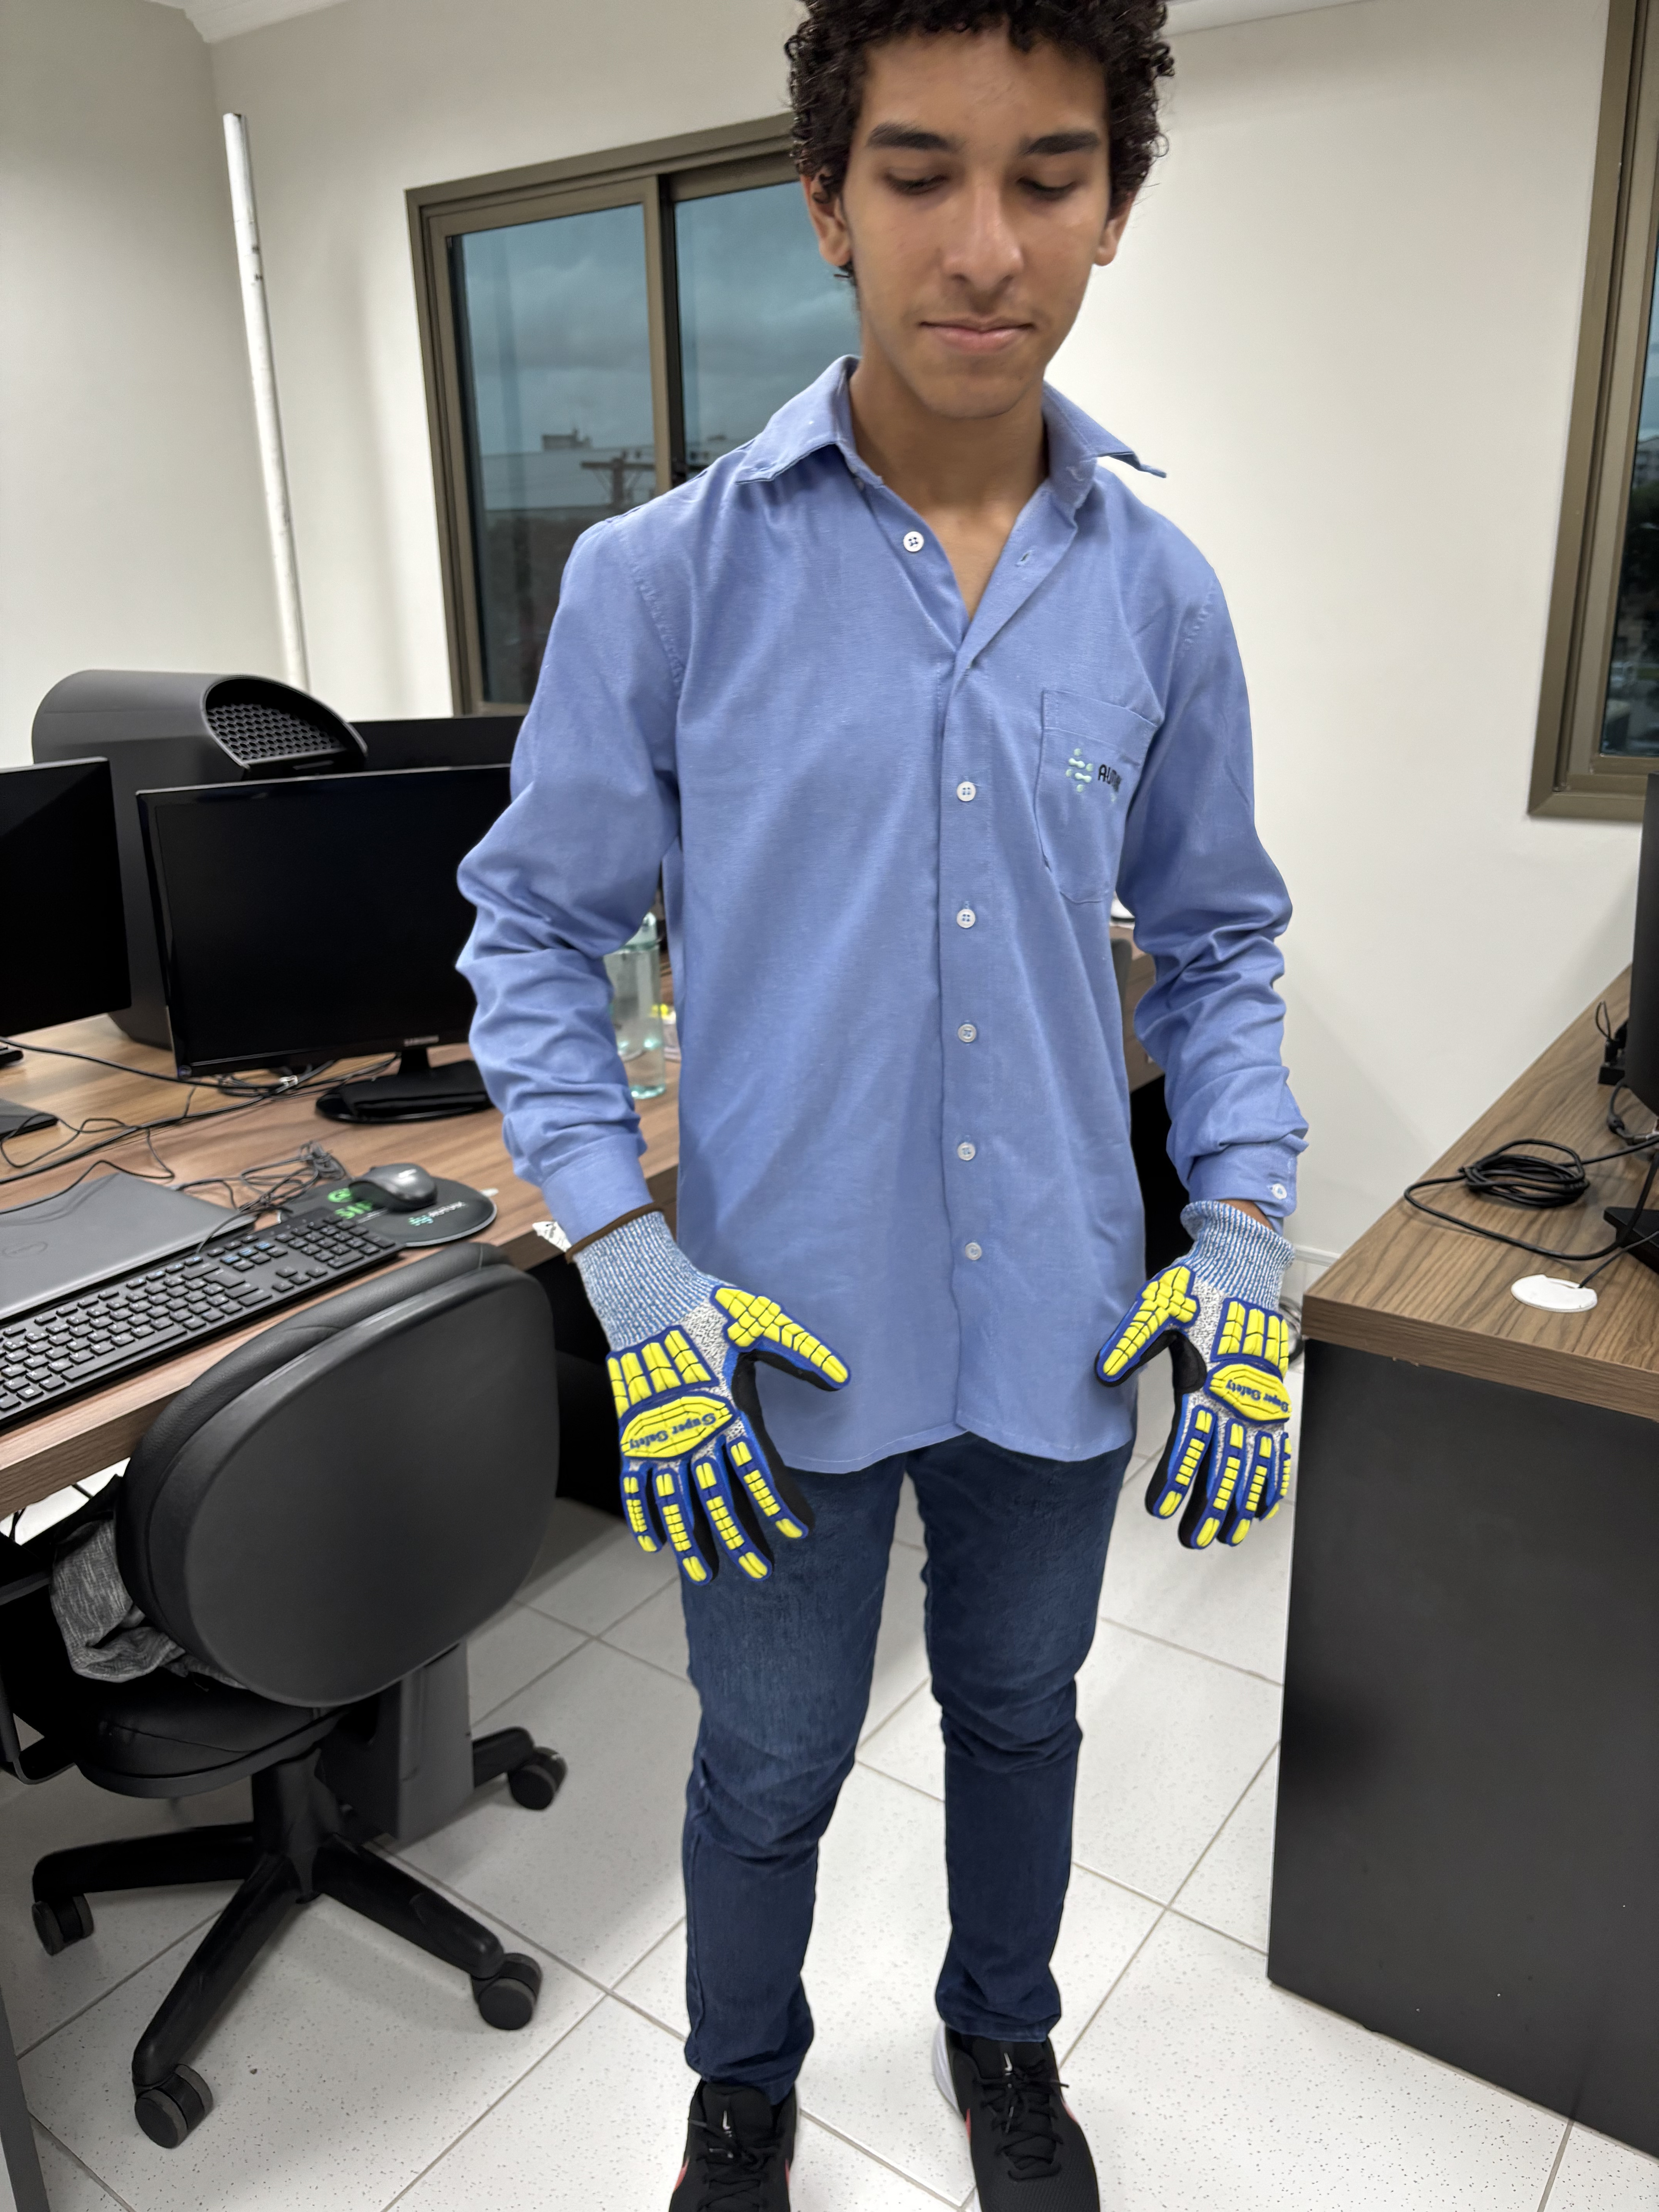Gloves: (561, 1202, 850, 1585), (1093, 1198, 1297, 1554)
